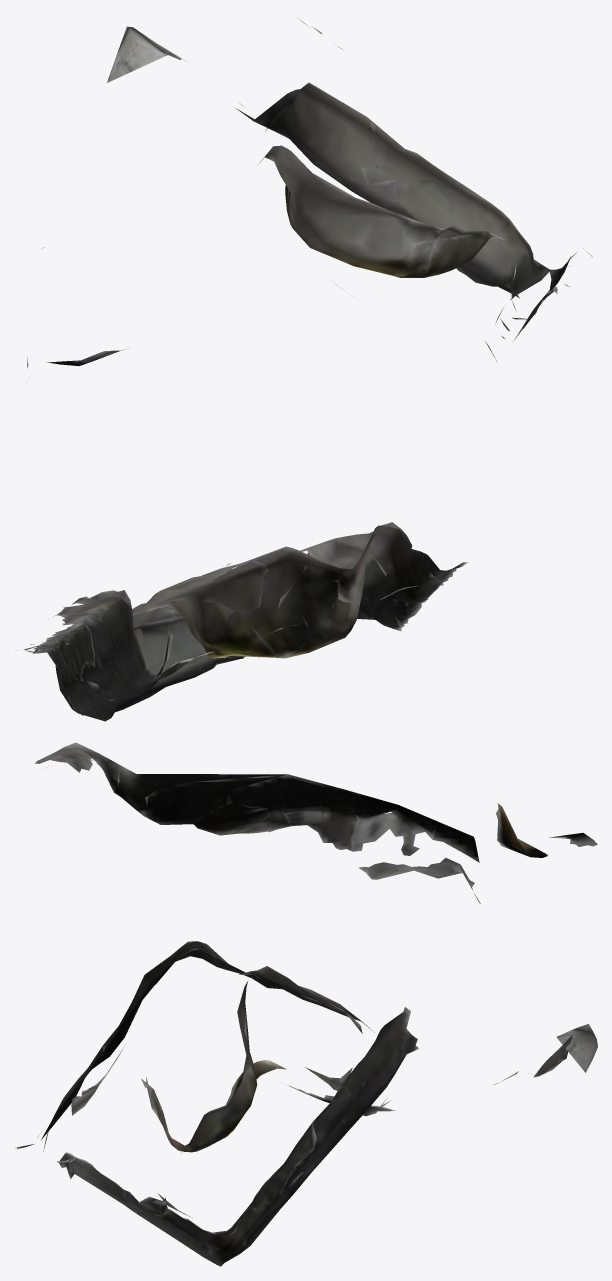
File: hall.glb
3 renders of one model, top to bottom at view 1: azimuth 30°, elevation 25°; view 2: azimuth 150°, elevation 25°; view 3: azimuth 270°, elevation 25°, orthographic. The views are drawn at different scales.
Bounding box in the file's own units: 0.7859 × 0.4295 × 0.9045.
Materials: 1 (1 with a texture image).
